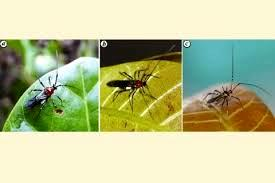Helopeltis-insect: (19, 82, 63, 116), (206, 80, 244, 112), (106, 73, 155, 97)
